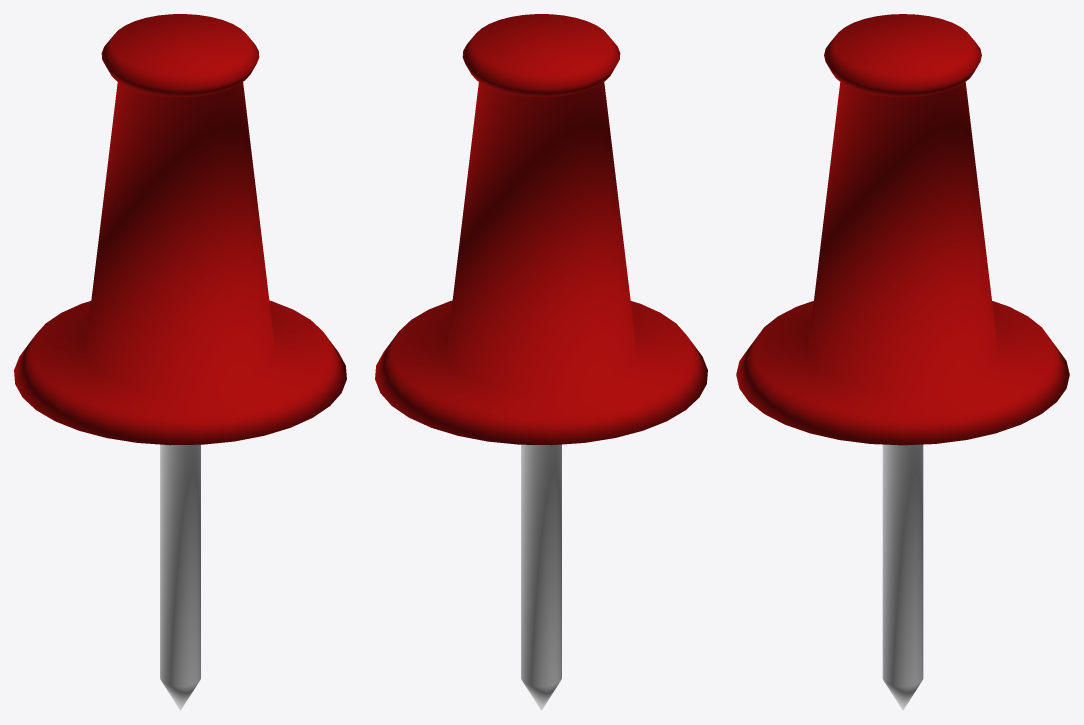
File: Spendlik.fbx
3 renders of one model, left to right at view 1: azimuth 30°, elevation 25°; view 2: azimuth 150°, elevation 25°; view 3: azimuth 270°, elevation 25°, orthographic.
Visible parts, largest first — view 1: Cylinder; view 2: Cylinder; view 3: Cylinder.
Part boxes in pixels (x1,y1,x2,y2): Cylinder: (14, 14, 346, 710); Cylinder: (375, 14, 707, 710); Cylinder: (736, 14, 1069, 710).
Bounding box in the file's own units: 212 × 469 × 212.
